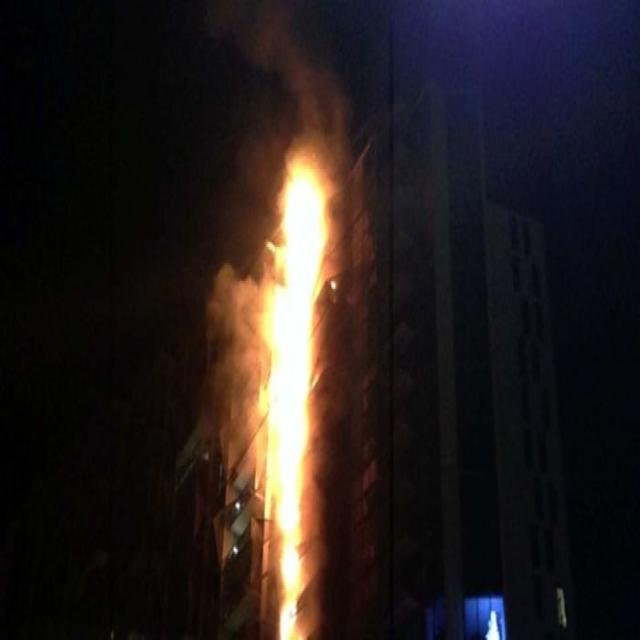fire: (266, 160, 322, 524)
